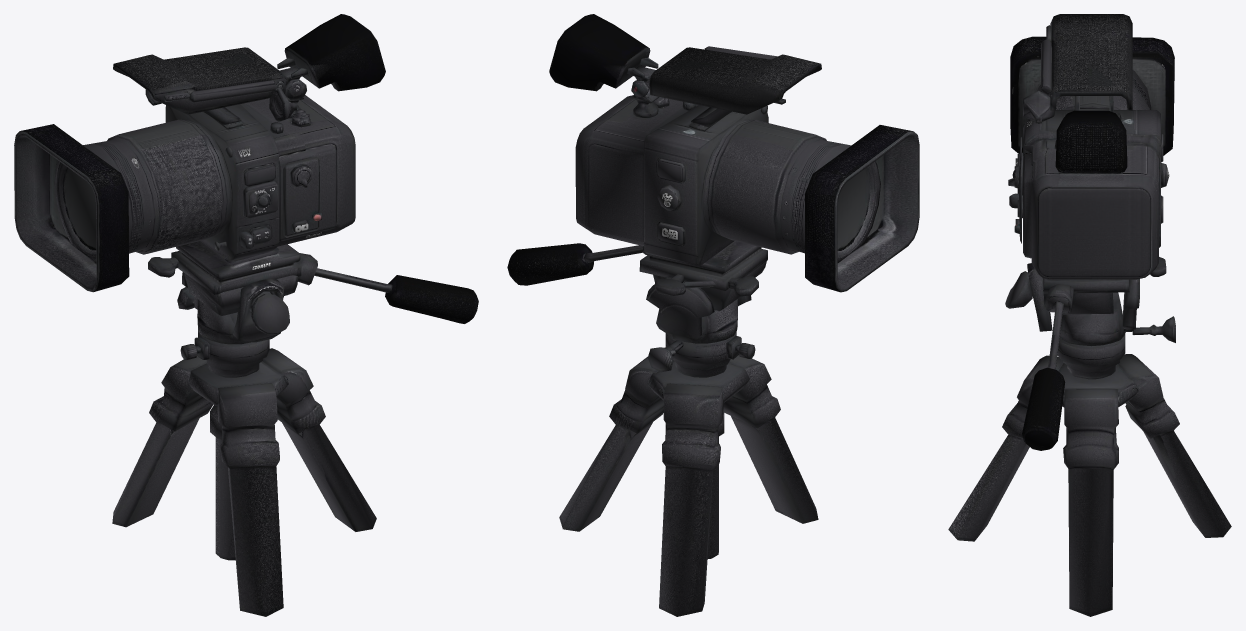
Rendered from videocamera_001.glb.
3 renders of one model, left to right at view 1: azimuth 30°, elevation 25°; view 2: azimuth 150°, elevation 25°; view 3: azimuth 270°, elevation 25°, orthographic. The views are drawn at different scales.
Parts seen in each view (by area): view 1: tripo_node_2aee17dd-650e-464a-b081-32525766eb30; view 2: tripo_node_2aee17dd-650e-464a-b081-32525766eb30; view 3: tripo_node_2aee17dd-650e-464a-b081-32525766eb30.
Boxes of the visible parts, <box> form: tripo_node_2aee17dd-650e-464a-b081-32525766eb30: <box>14,14,478,616</box>; tripo_node_2aee17dd-650e-464a-b081-32525766eb30: <box>507,14,919,616</box>; tripo_node_2aee17dd-650e-464a-b081-32525766eb30: <box>948,14,1231,616</box>.
Size of the model in its own units: 0.8145 by 0.998 by 0.5254.
Materials: 1 (1 with a texture image).
